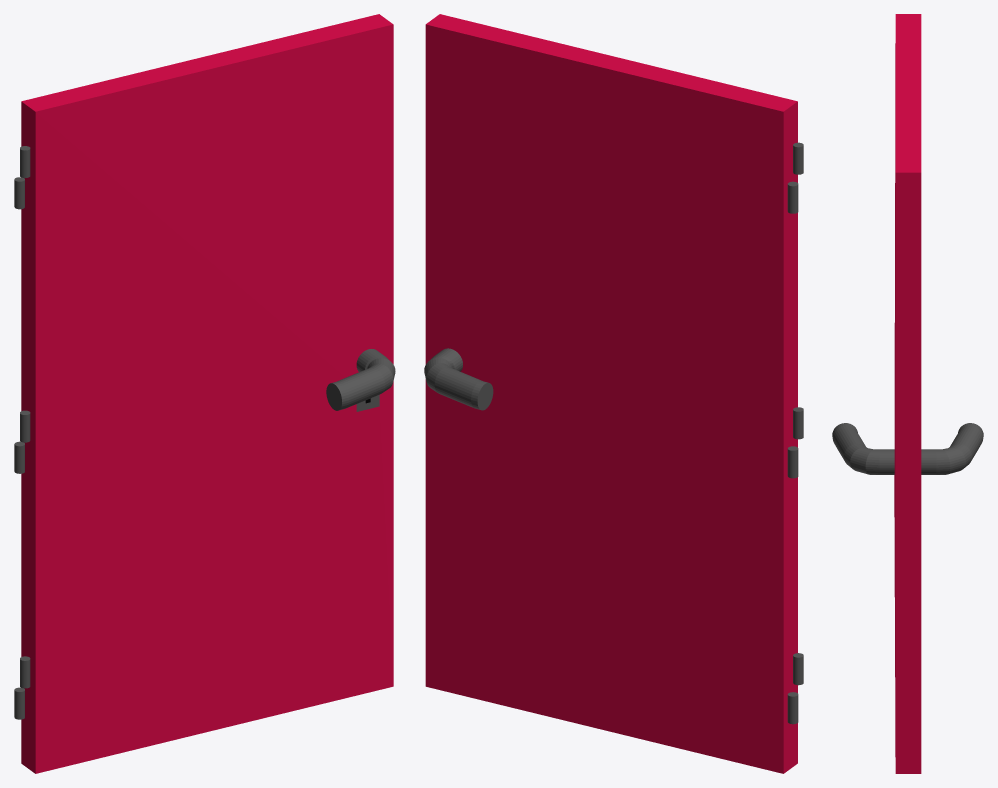
The model's file is porta (1).fbx.
3 views of the same model, side by side, from view 1: azimuth 30°, elevation 25°; view 2: azimuth 150°, elevation 25°; view 3: azimuth 270°, elevation 25° (orthographic). The views are drawn at different scales.
Visible parts, largest first — view 1: Porta, Maçaneta, Dobradiça baixo, Dobradiça meio, Dobradiça cima; view 2: Porta, Maçaneta.001, Dobradiça meio, Dobradiça cima, Dobradiça baixo; view 3: Porta, Maçaneta.001, Maçaneta.
Boxes of the visible parts, x1,y1,x2,y2 form: Porta: [21, 14, 393, 773]; Maçaneta: [326, 349, 395, 410]; Dobradiça baixo: [14, 656, 30, 719]; Dobradiça meio: [14, 410, 30, 473]; Dobradiça cima: [14, 146, 30, 209]; Porta: [425, 14, 797, 773]; Maçaneta.001: [424, 348, 493, 410]; Dobradiça meio: [787, 407, 803, 478]; Dobradiça cima: [787, 142, 803, 213]; Dobradiça baixo: [787, 653, 803, 724]; Porta: [894, 14, 921, 773]; Maçaneta.001: [921, 423, 983, 474]; Maçaneta: [832, 423, 894, 474].
Size of the model in its own units: 206 by 354 by 80.69.
